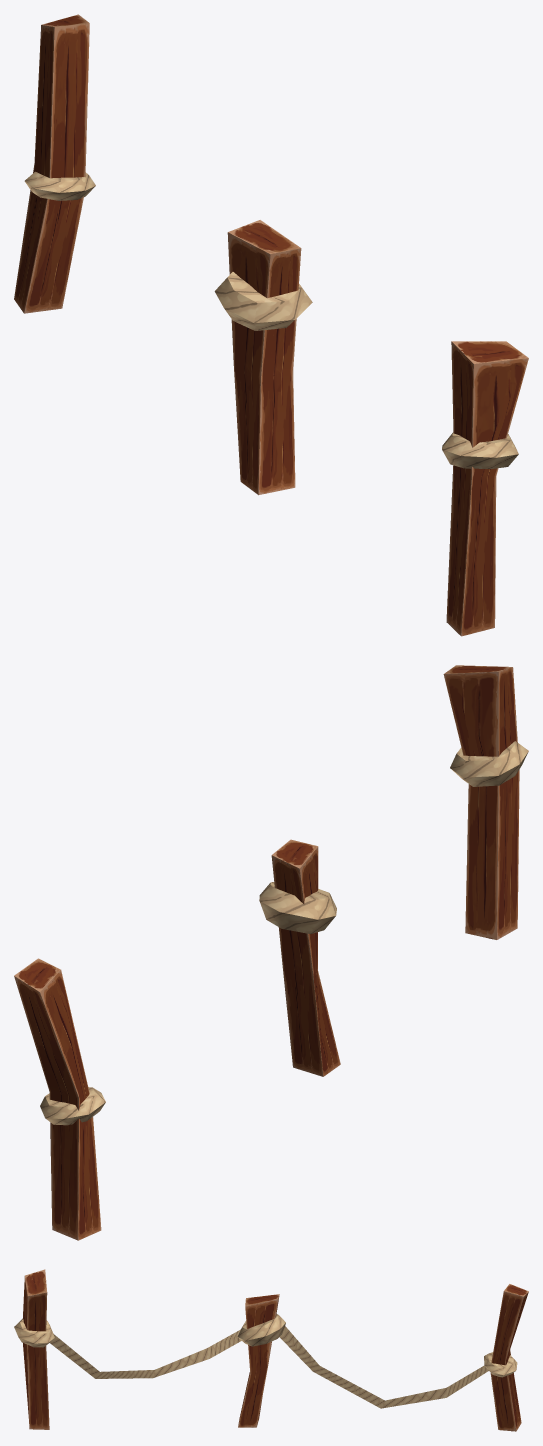
File: barriere-ficelle-triple-1.glb
3 renders of one model, top to bottom at view 1: azimuth 30°, elevation 25°; view 2: azimuth 150°, elevation 25°; view 3: azimuth 270°, elevation 25°, orthographic. The views are drawn at different scales.
Visible parts, largest first — view 1: SM_PROP_railing_v02_01; view 2: SM_PROP_railing_v02_01; view 3: SM_PROP_railing_v02_01.
Boxes of the visible parts, x1,y1,x2,y2 form: SM_PROP_railing_v02_01: [14, 14, 528, 636]; SM_PROP_railing_v02_01: [14, 665, 528, 1240]; SM_PROP_railing_v02_01: [14, 1269, 528, 1431].
Size of the model in its own units: 0.3793 by 1.04 by 3.18.
2 materials, 2 textured.
